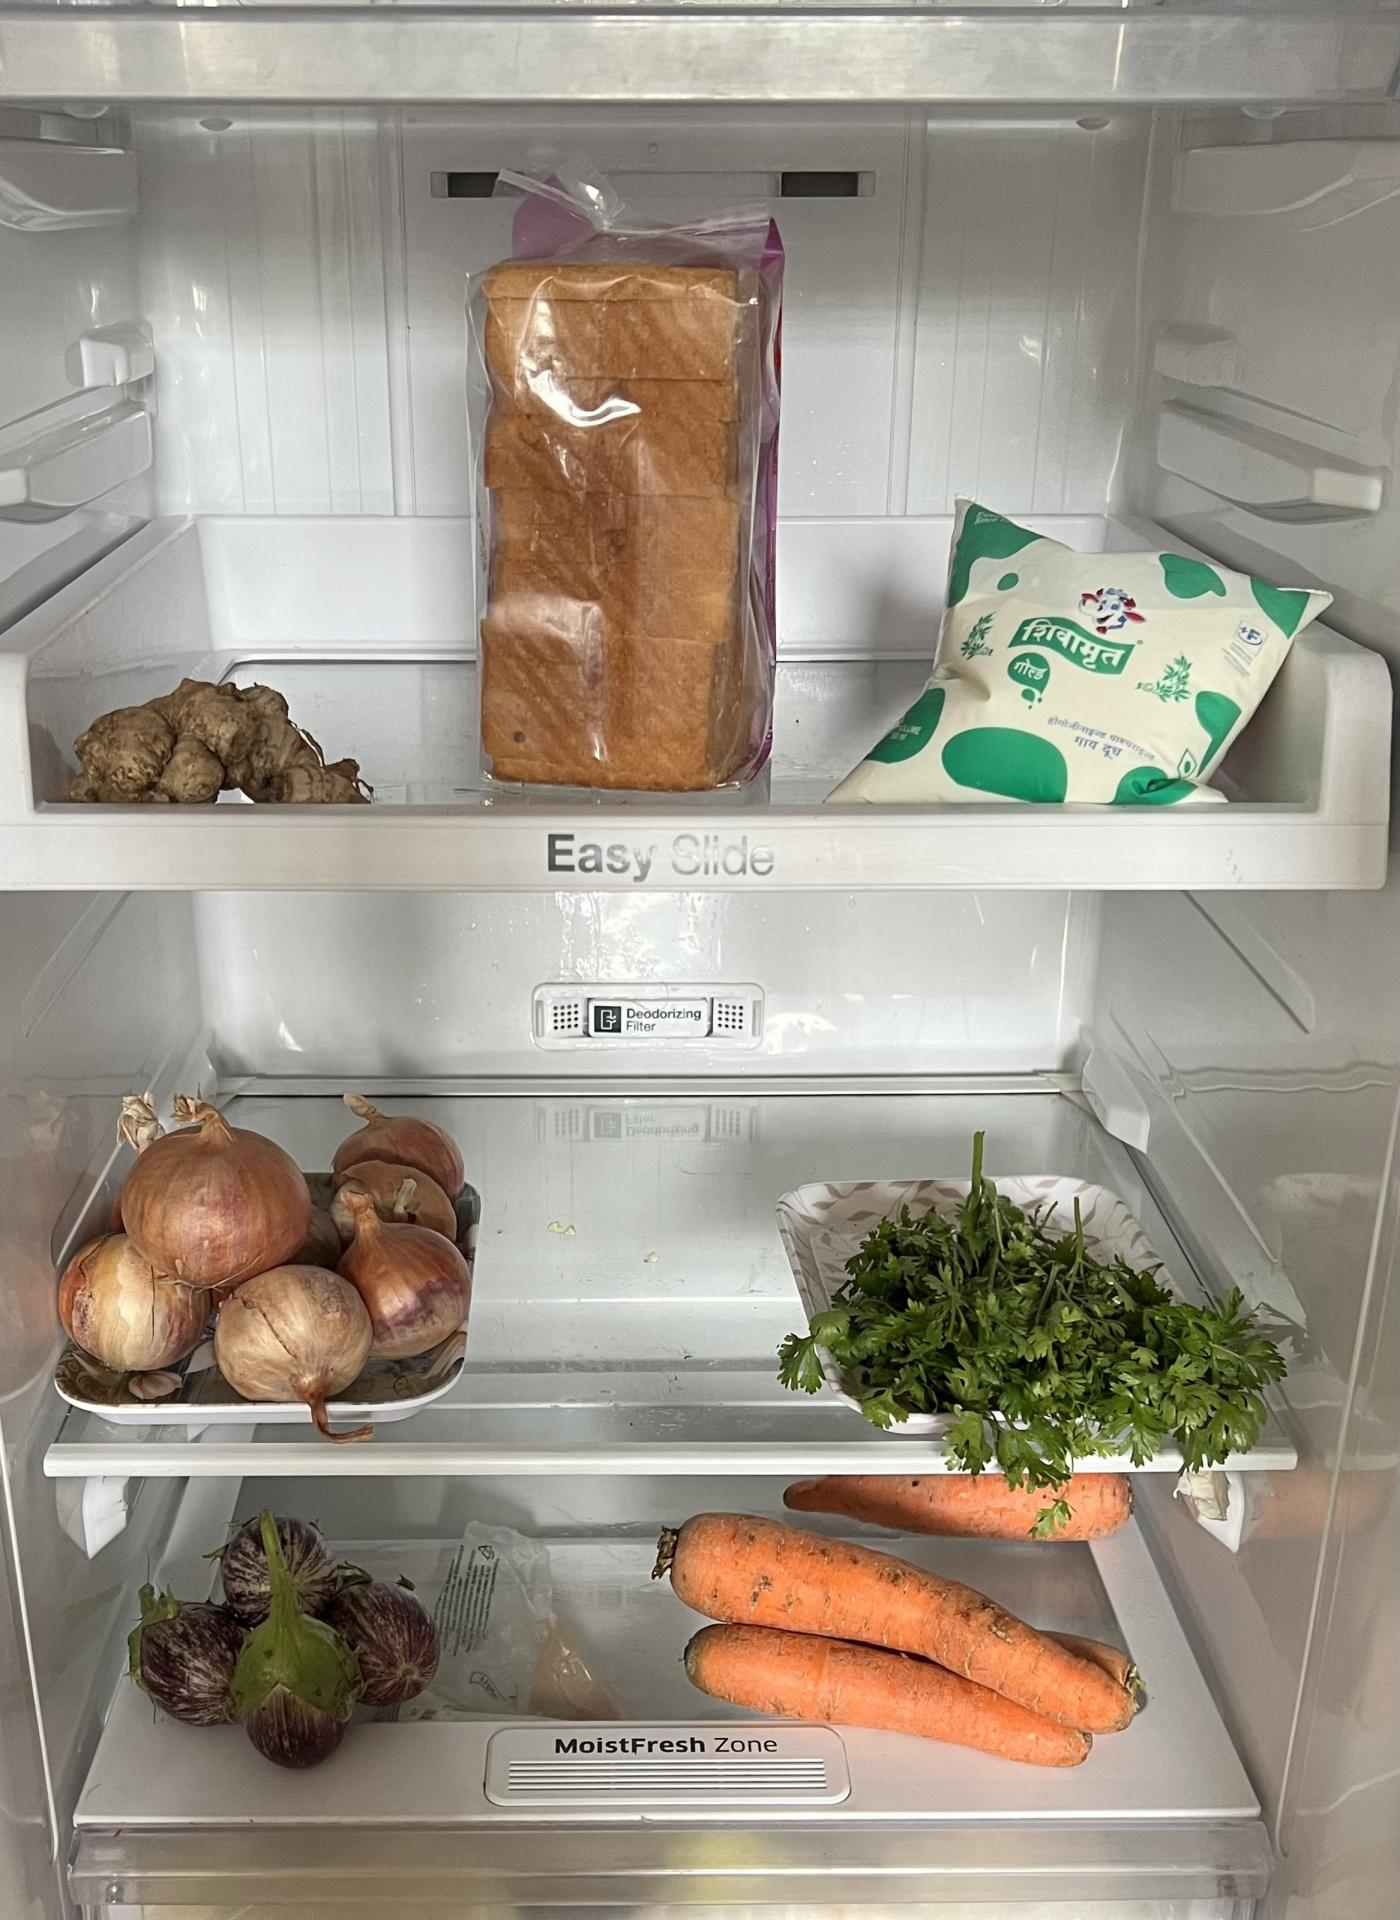bread: (447, 207, 807, 789)
carrots: (649, 1482, 1157, 1766)
coriander: (798, 1161, 1267, 1443)
ginger: (69, 666, 373, 811)
milk: (833, 492, 1325, 806)
onion: (60, 1094, 464, 1406)
